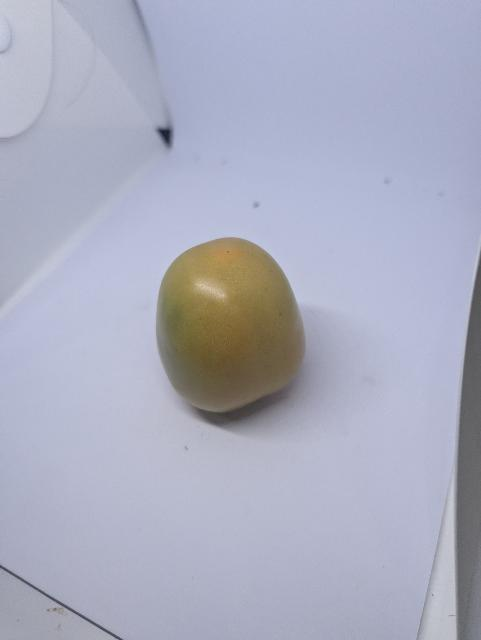breaker: (152, 232, 314, 419)
